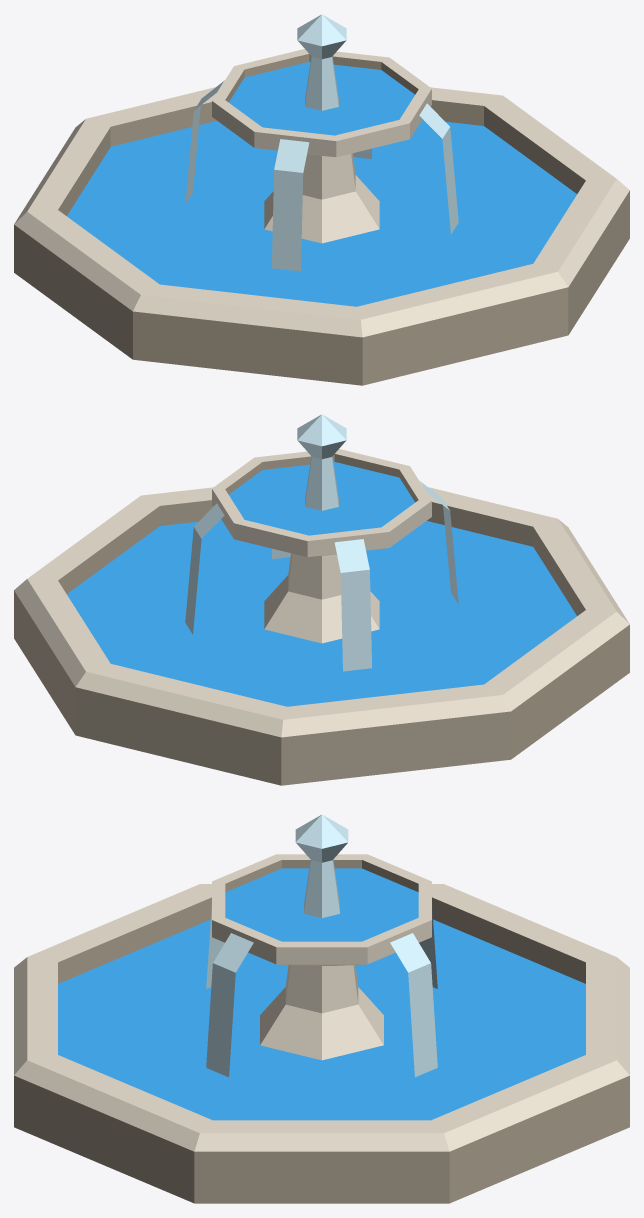
File: fountain.glb
The picture shows the model from 3 angles, top to bottom: view 1: azimuth 30°, elevation 25°; view 2: azimuth 150°, elevation 25°; view 3: azimuth 270°, elevation 25°; orthographic projection. The views are drawn at different scales.
Parts seen in each view (by area): view 1: fountain; view 2: fountain; view 3: fountain.
Part boxes in pixels (x1,y1,x2,y2): fountain: (14,14,629,385); fountain: (14,414,629,785); fountain: (14,814,629,1203).
Size of the model in its own units: 0.6467 by 0.3 by 0.6467.
